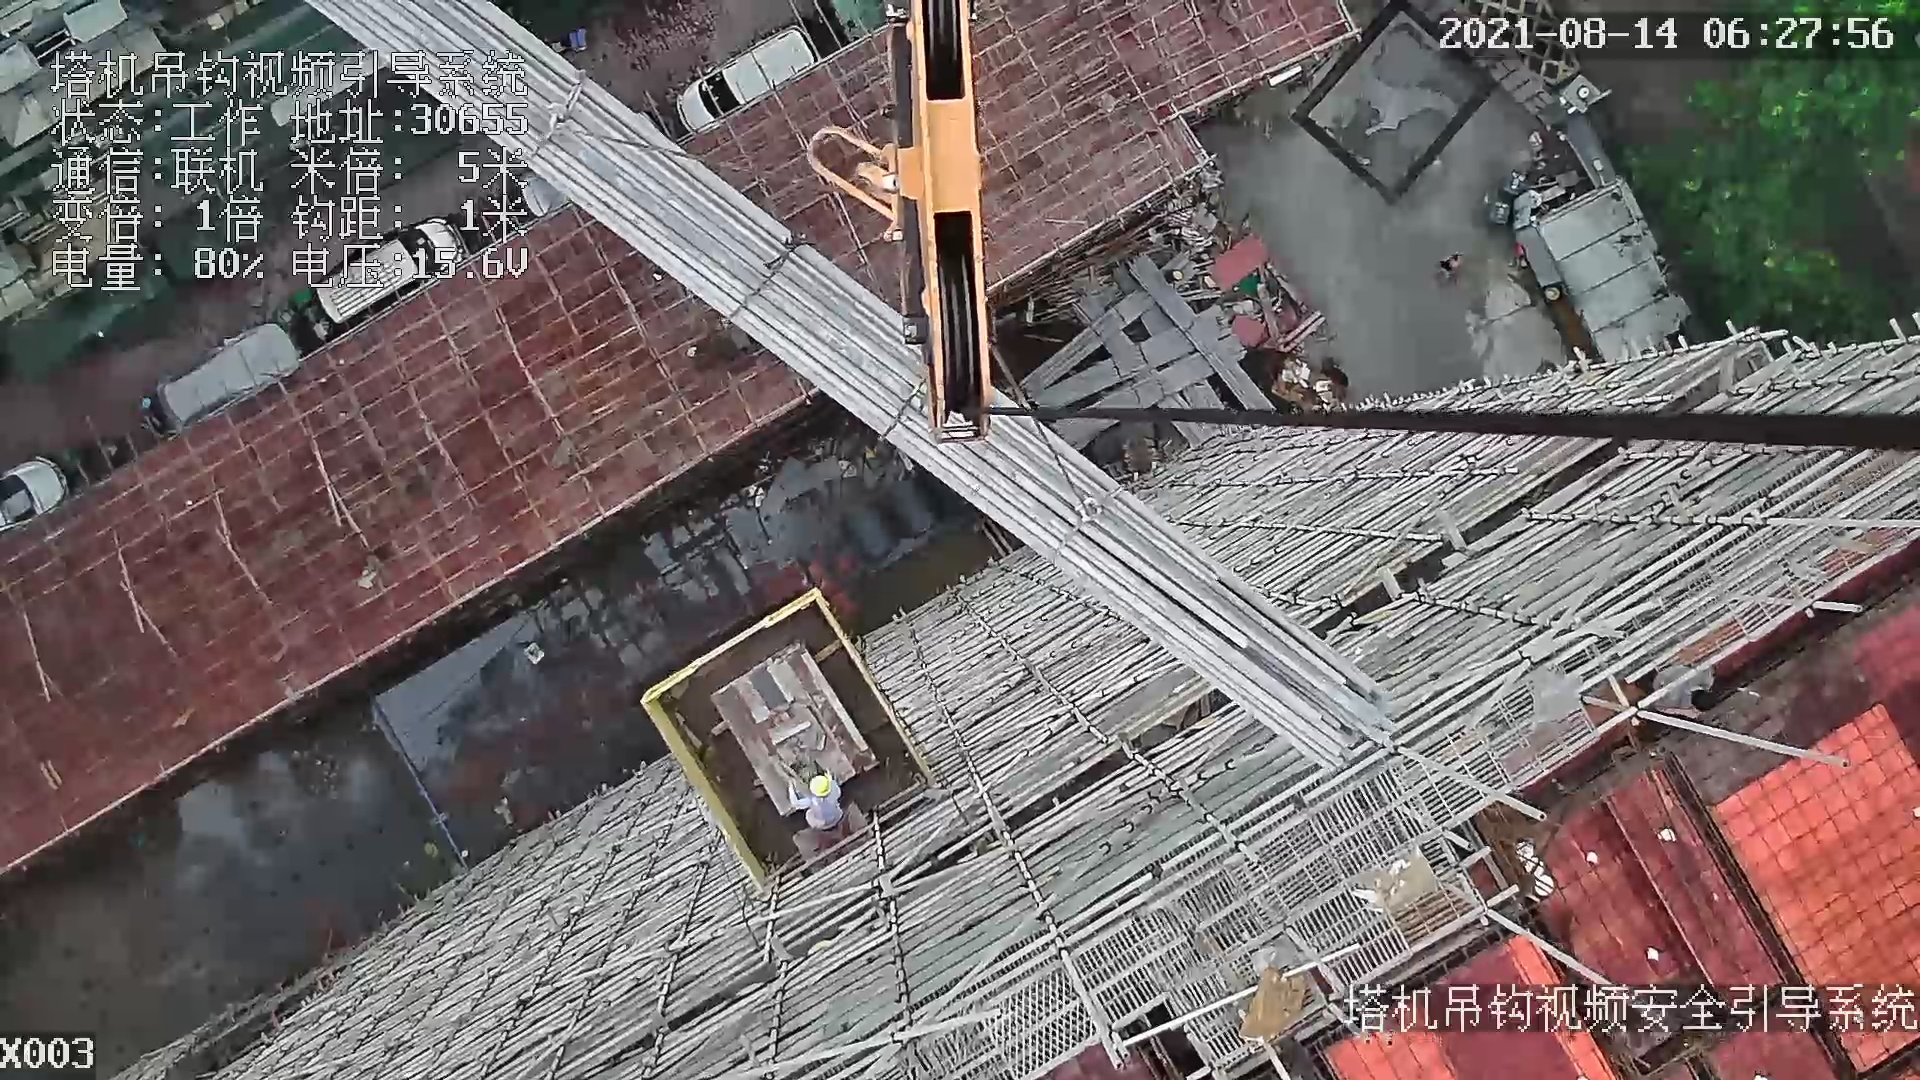helmet: (793, 769, 830, 803)
hook: (879, 1, 995, 445)
person: (777, 762, 848, 831)
